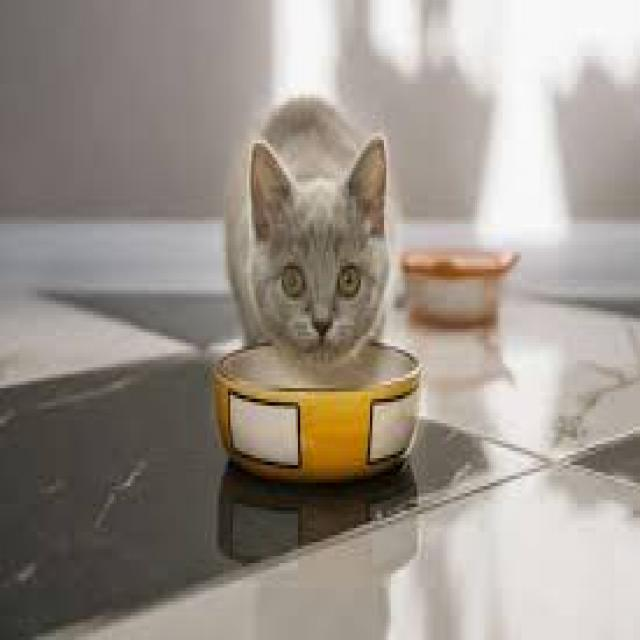Cat: (222, 88, 396, 377)
